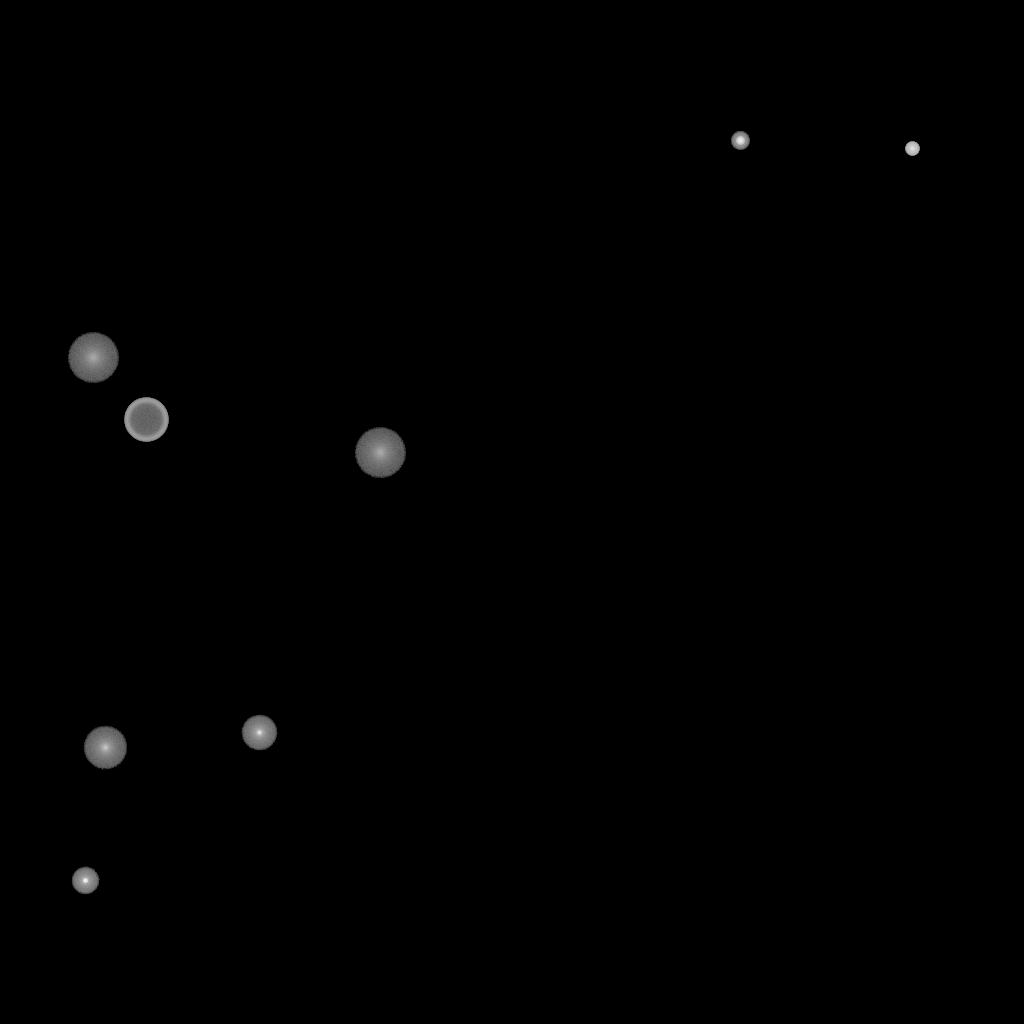depth:-10: (71, 867, 99, 895)
depth:-20: (731, 132, 749, 150)
depth:-30: (905, 142, 919, 156)
depth:-70: (124, 398, 168, 442)
depth:0: (241, 715, 277, 751)
depth:10: (83, 726, 127, 770)
depth:20: (354, 428, 406, 478), (67, 333, 119, 383)
